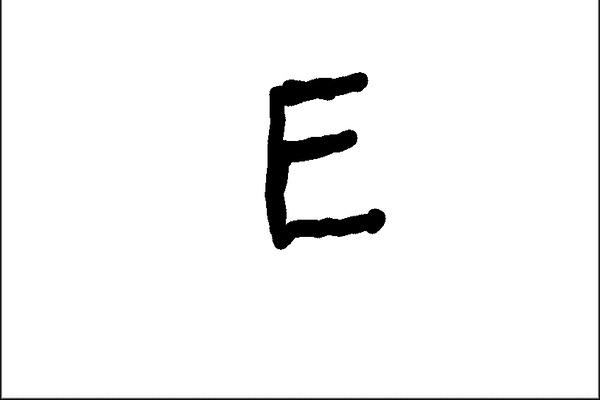E: (258, 67, 389, 253)
